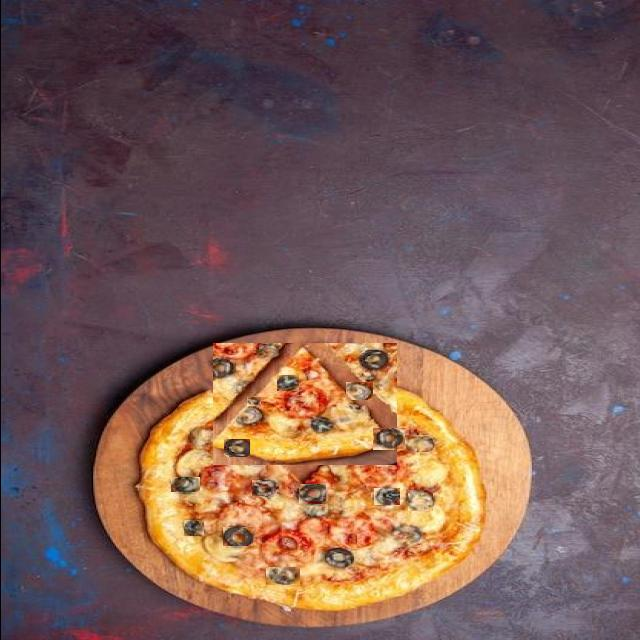olive: (372, 428, 404, 450), (323, 549, 357, 568), (392, 524, 424, 544), (265, 567, 299, 585), (222, 528, 252, 548), (298, 484, 325, 504), (407, 490, 432, 511), (345, 382, 372, 400), (223, 439, 249, 457), (373, 488, 399, 505), (170, 478, 199, 493), (407, 435, 432, 452), (251, 480, 276, 496), (276, 375, 298, 391), (183, 520, 203, 536), (246, 397, 260, 406)
pizza: (136, 390, 488, 614), (212, 343, 396, 465)
